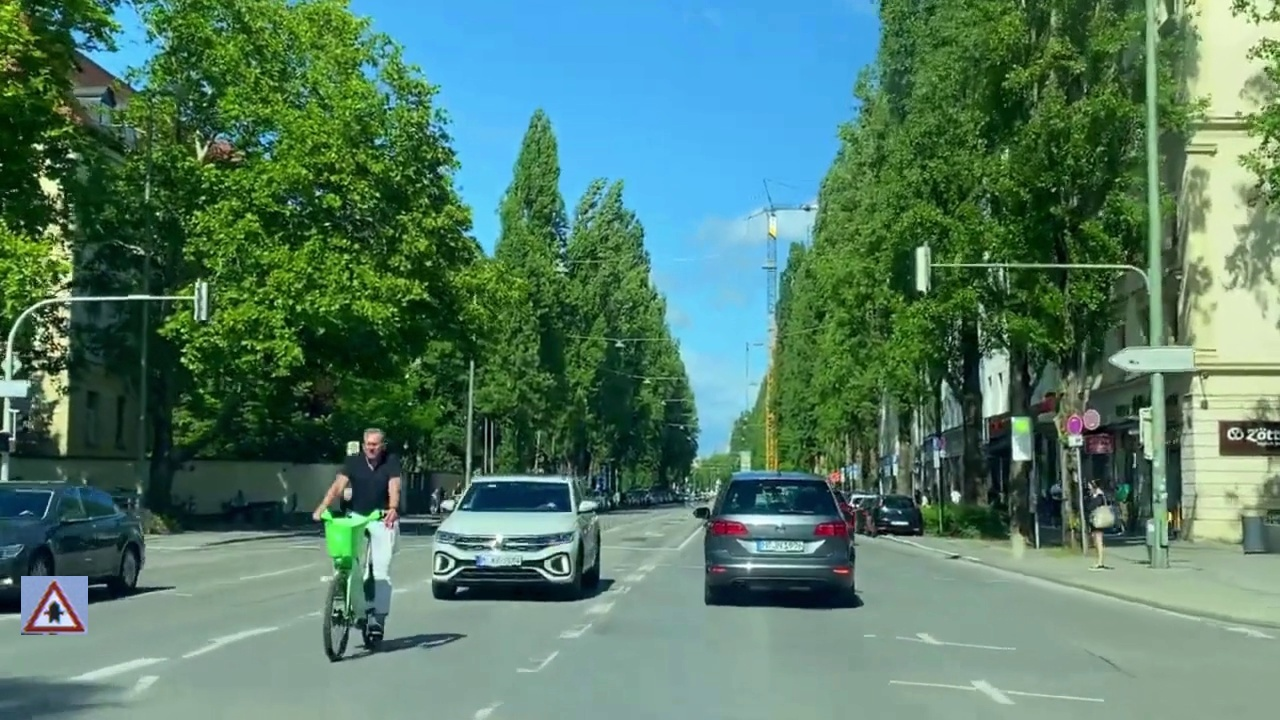Right-of-way: (21, 576, 88, 635)
